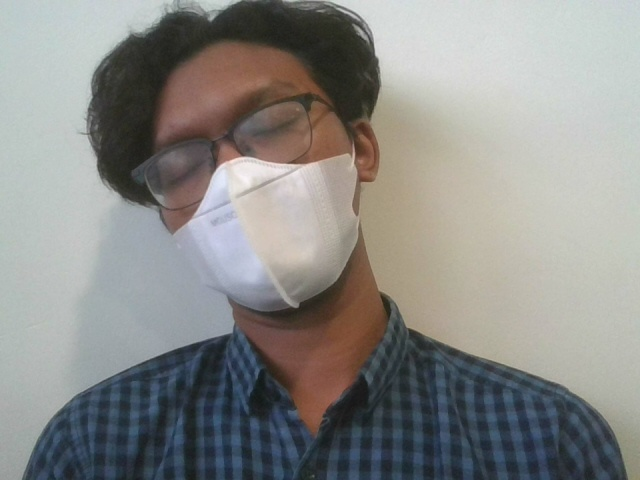Drowsy: (73, 14, 479, 438)
